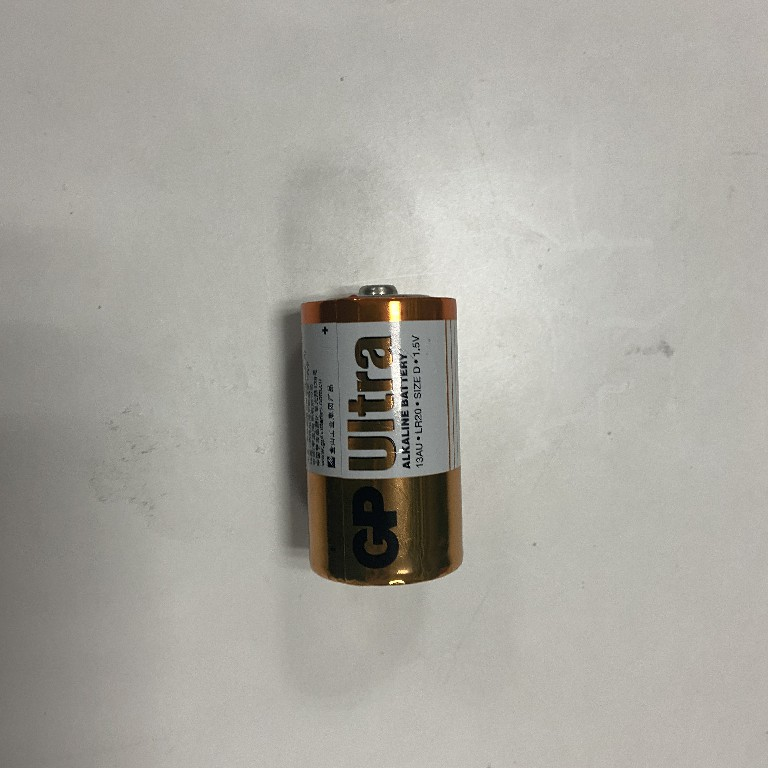charge: (293, 278, 468, 590)
